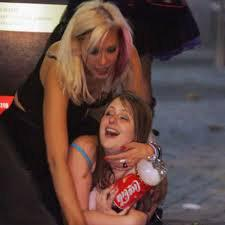Drunk: (79, 34, 119, 79), (98, 102, 134, 149)
